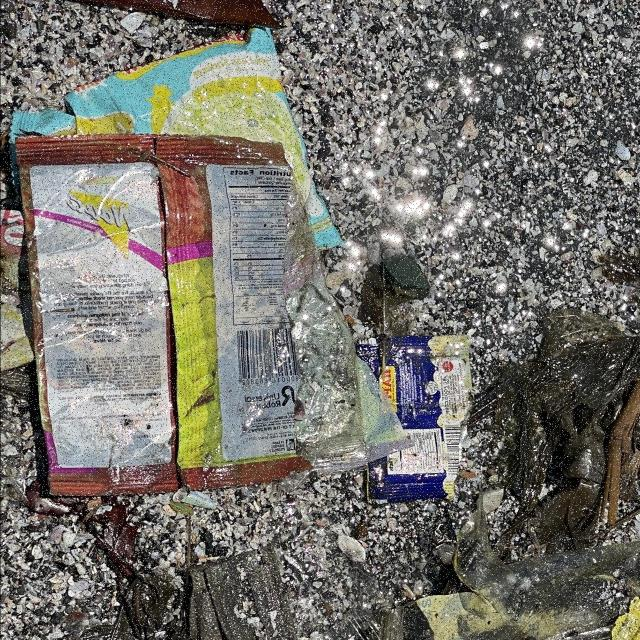plastic_waste: (15, 25, 350, 500), (358, 334, 477, 506)
wood_waste: (8, 1, 285, 29)
